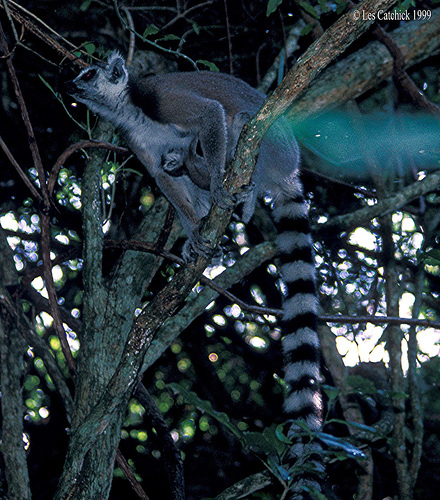cat: (63, 56, 326, 442)
